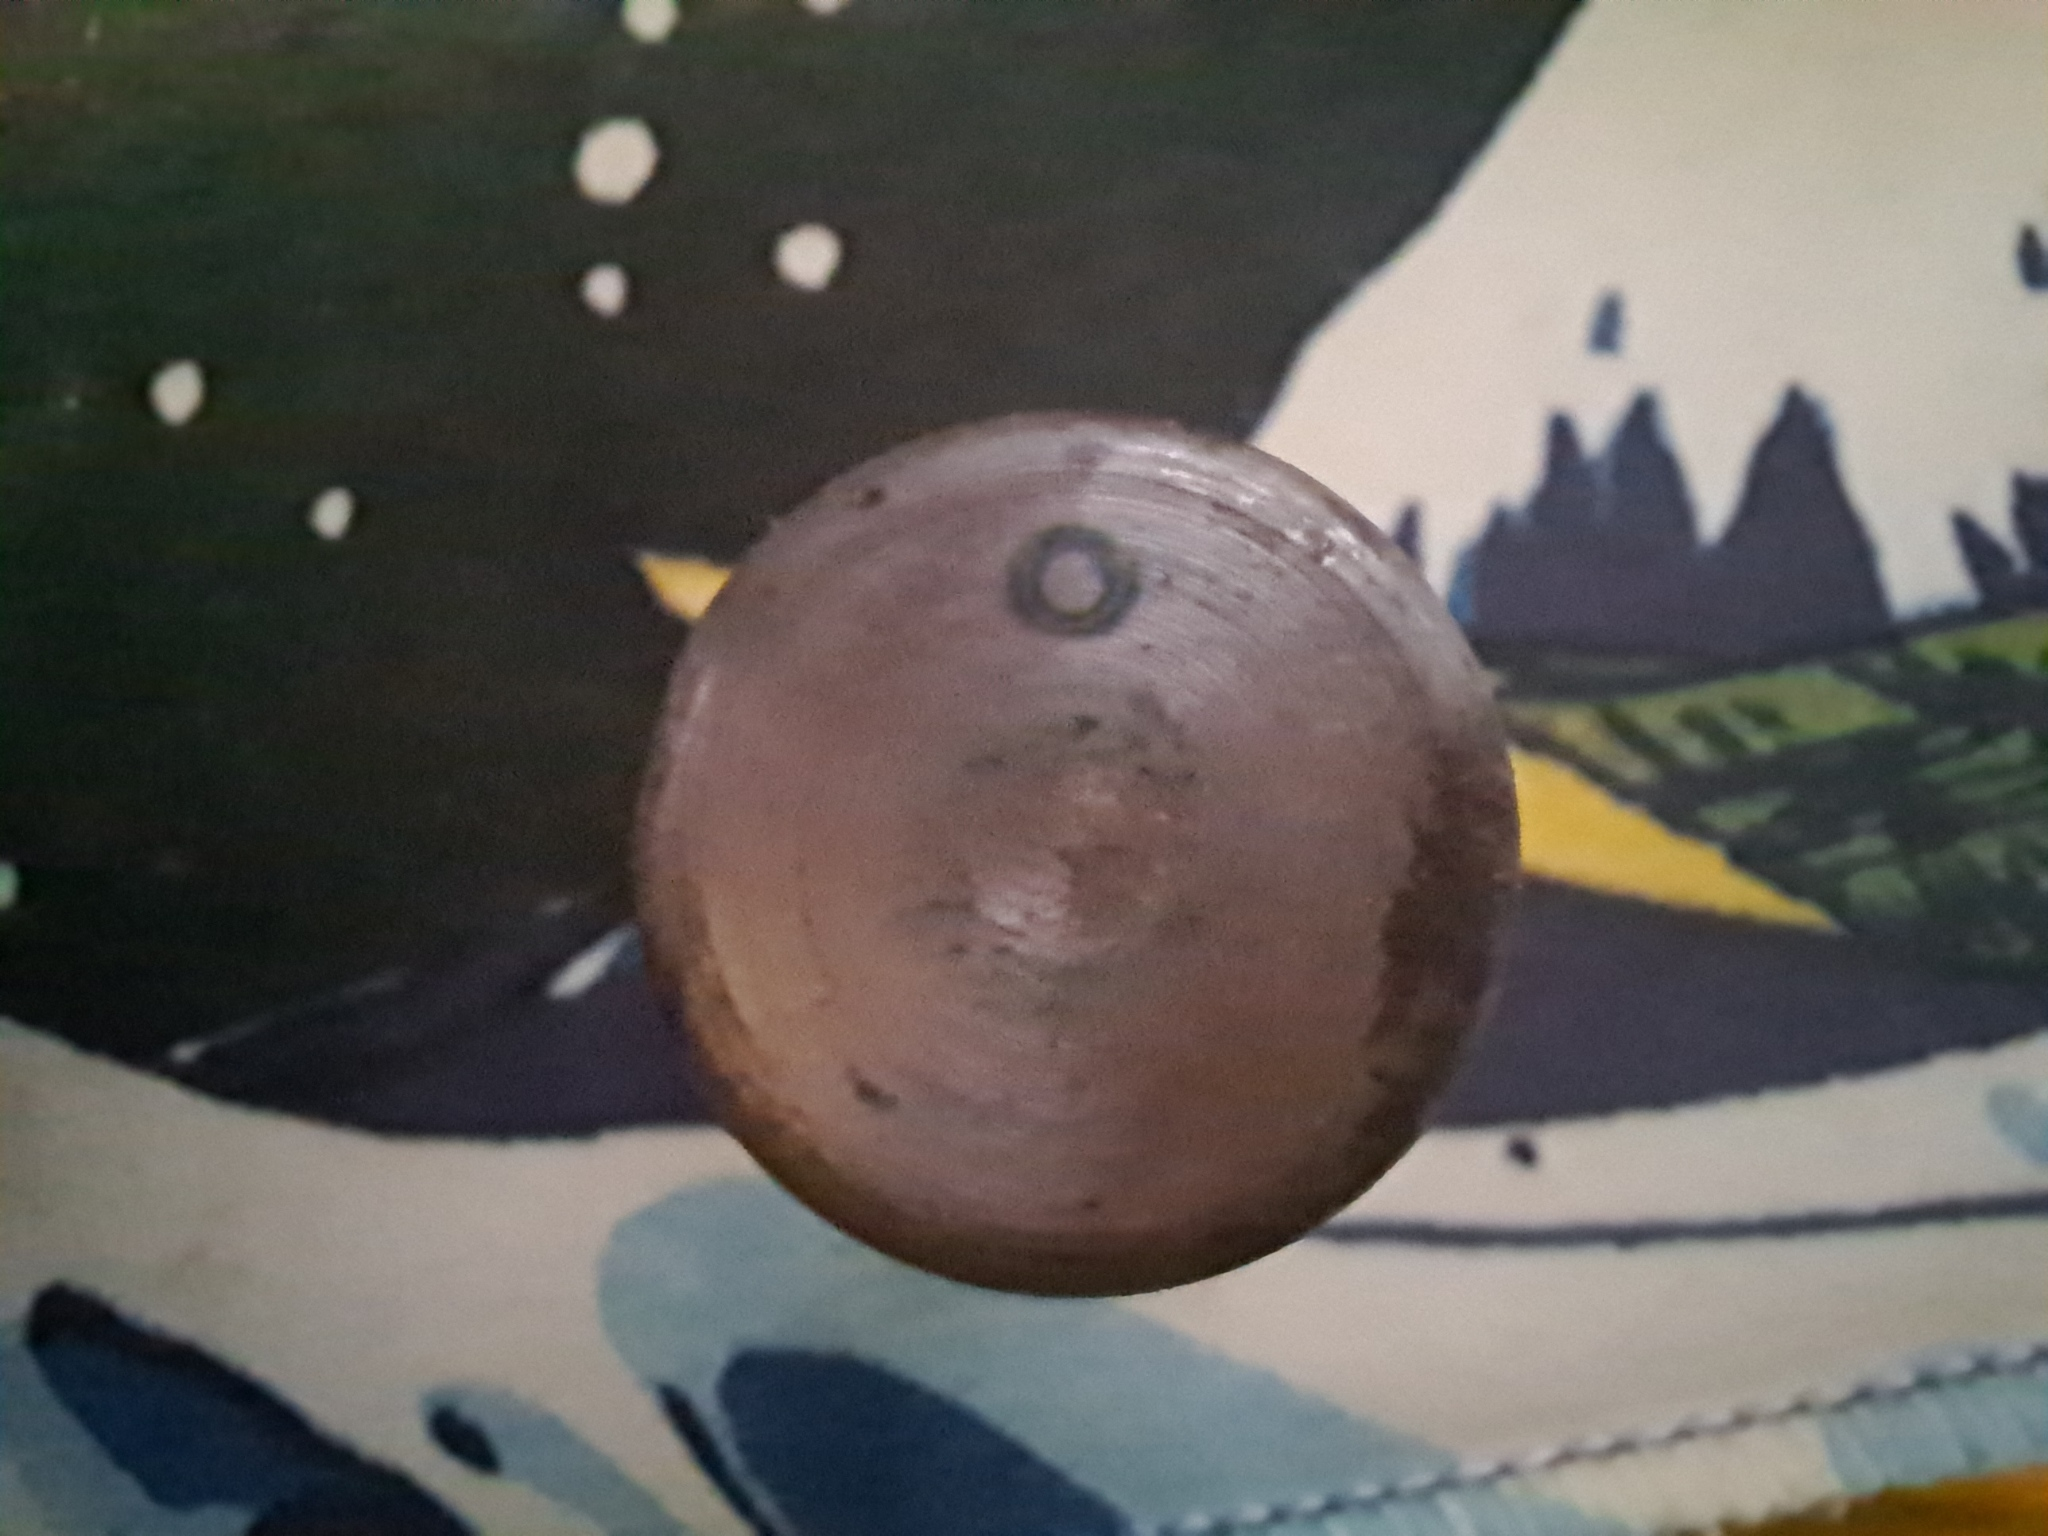плансон: (627, 411, 1521, 1304)
повреждение: (1006, 523, 1143, 641)
